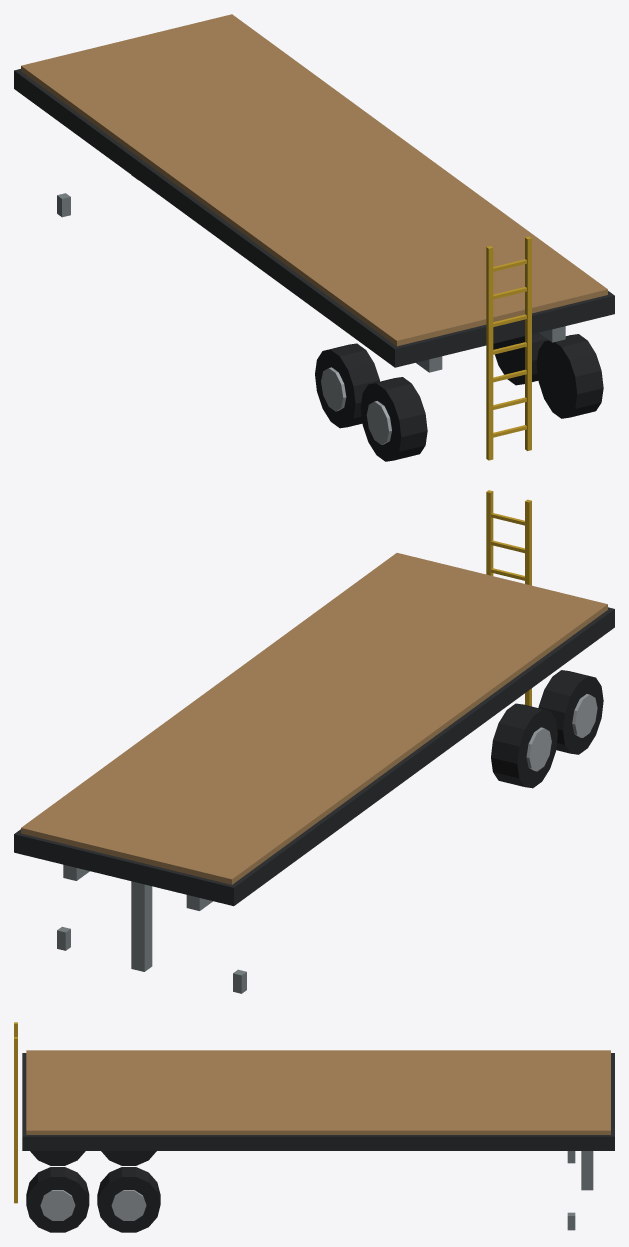
The model's file is flatbed.glb.
3 renders of one model, top to bottom at view 1: azimuth 30°, elevation 25°; view 2: azimuth 150°, elevation 25°; view 3: azimuth 270°, elevation 25°, orthographic. The views are drawn at different scales.
Visible parts, largest first — view 1: flatbed; view 2: flatbed; view 3: flatbed.
Part boxes in pixels (box(x1,y1,x2,y2)): flatbed: box(14, 14, 614, 461); flatbed: box(14, 490, 614, 993); flatbed: box(14, 1022, 614, 1232).
Bounding box in the file's own units: 2.5 × 2.3 × 7.61.
